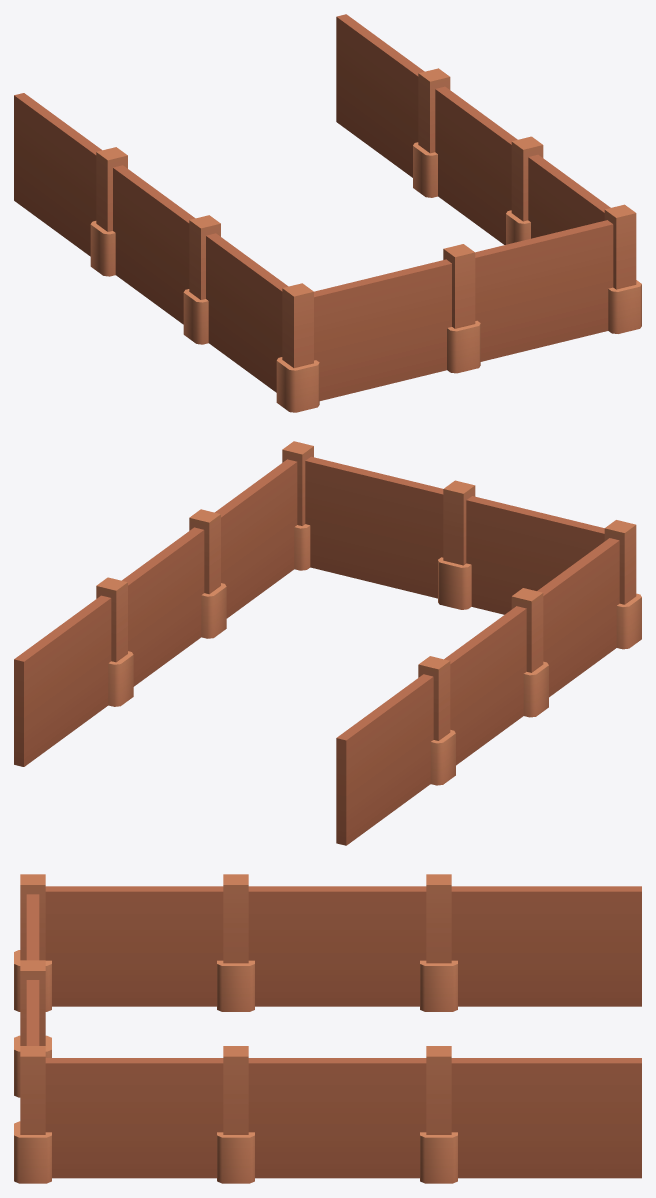
File: fence-3x2.glb
The picture shows the model from 3 angles, top to bottom: view 1: azimuth 30°, elevation 25°; view 2: azimuth 150°, elevation 25°; view 3: azimuth 270°, elevation 25°; orthographic projection. The views are drawn at different scales.
Visible parts, largest first — view 1: fence-3x2; view 2: fence-3x2; view 3: fence-3x2.
Part boxes in pixels (x1,y1,x2,y2): fence-3x2: (14, 14, 641, 412); fence-3x2: (14, 441, 641, 845); fence-3x2: (14, 874, 641, 1183).
Bounding box in the file's own units: 0.8751 × 0.27 × 1.24.
Materials: 1 (1 with a texture image).
